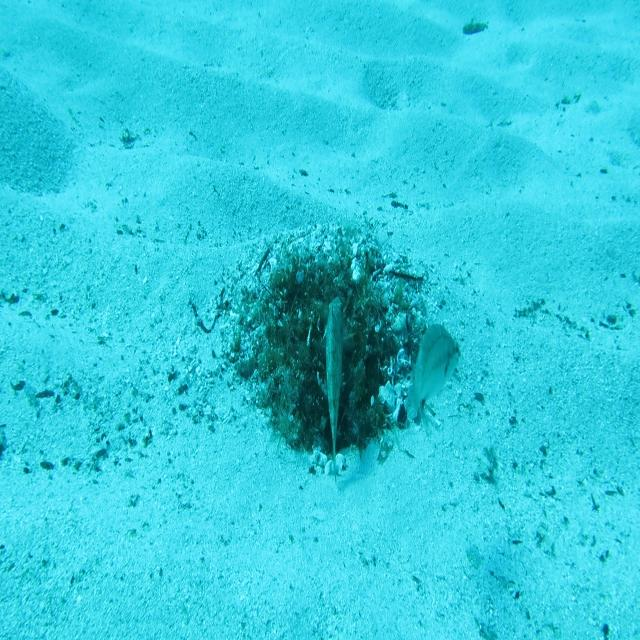FAN: (310, 292, 359, 488)
core_nest: (301, 277, 352, 310)
female: (403, 318, 462, 429)
nest: (213, 215, 445, 488)
vegetation: (461, 18, 492, 38)
